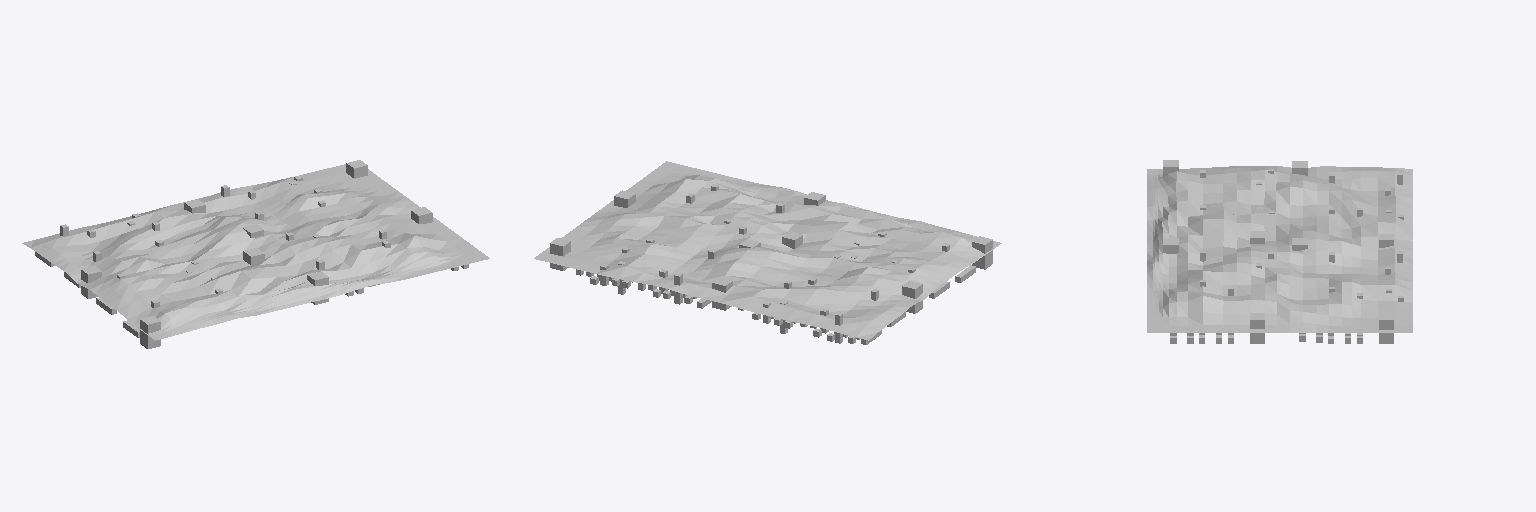
File: popredio.obj
The picture shows the model from 3 angles: view 1: azimuth 30°, elevation 25°; view 2: azimuth 150°, elevation 25°; view 3: azimuth 270°, elevation 25°; orthographic projection.
Parts seen in each view (by area): view 1: Plane.001; view 2: Plane.001; view 3: Plane.001.
Part boxes in pixels (bbox=[...]): Plane.001: bbox=[22, 164, 489, 340]; Plane.001: bbox=[534, 161, 1001, 340]; Plane.001: bbox=[1147, 166, 1412, 332].
Bounding box in the file's own units: 61.42 × 6.83 × 42.18.